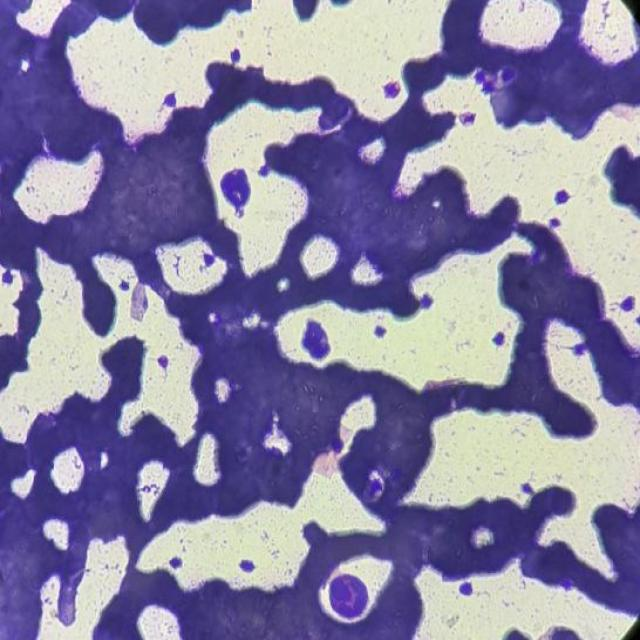Neutrofilo: (328, 571, 369, 620), (220, 165, 251, 213)
